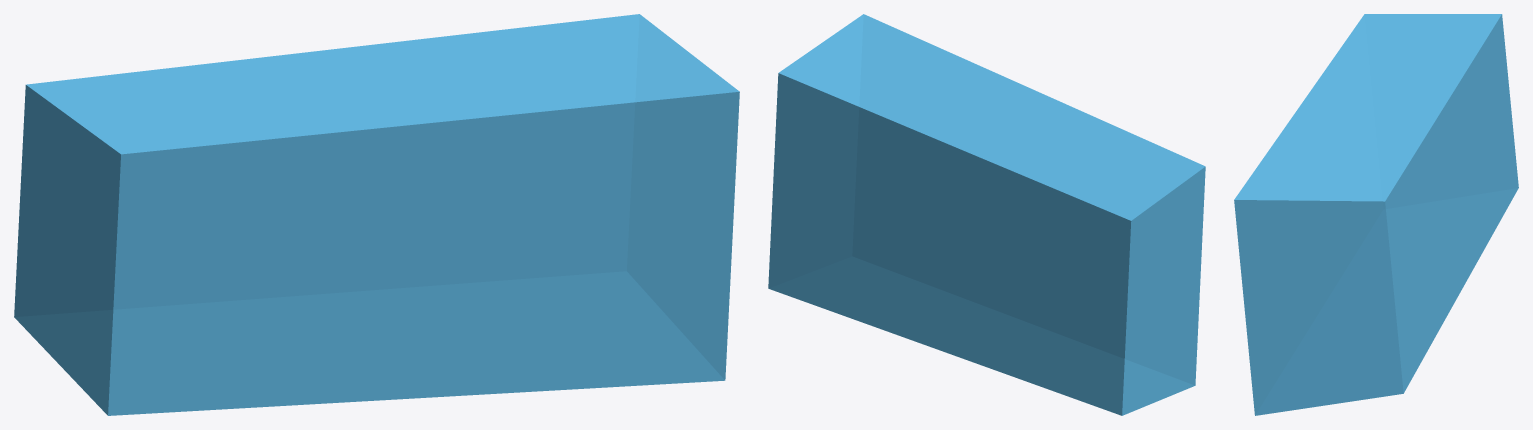
Rendered from Event_421115418_HErechit_50.fbx.
3 views of the same model, side by side, from view 1: azimuth 30°, elevation 25°; view 2: azimuth 150°, elevation 25°; view 3: azimuth 270°, elevation 25° (orthographic). The views are drawn at different scales.
Visible parts, largest first — view 1: Model; view 2: Model; view 3: Model.
Boxes of the visible parts, x1=… form: Model: x1=14, y1=14, x2=739, y2=415; Model: x1=768, y1=14, x2=1205, y2=415; Model: x1=1234, y1=14, x2=1518, y2=415.
Size of the model in its own units: 1.08 by 0.5788 by 0.6914.
